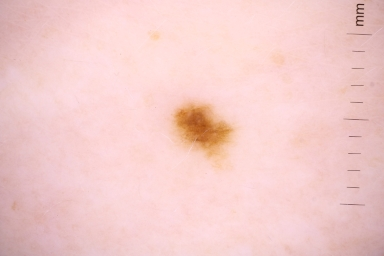melanoma: (173, 104, 235, 153)
